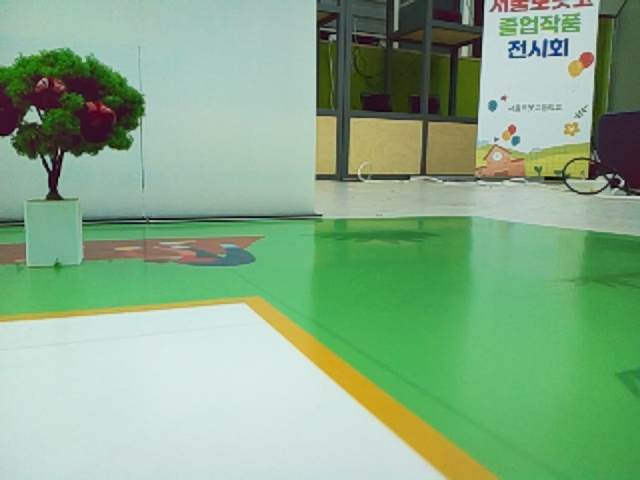apple: (581, 53, 593, 67)
